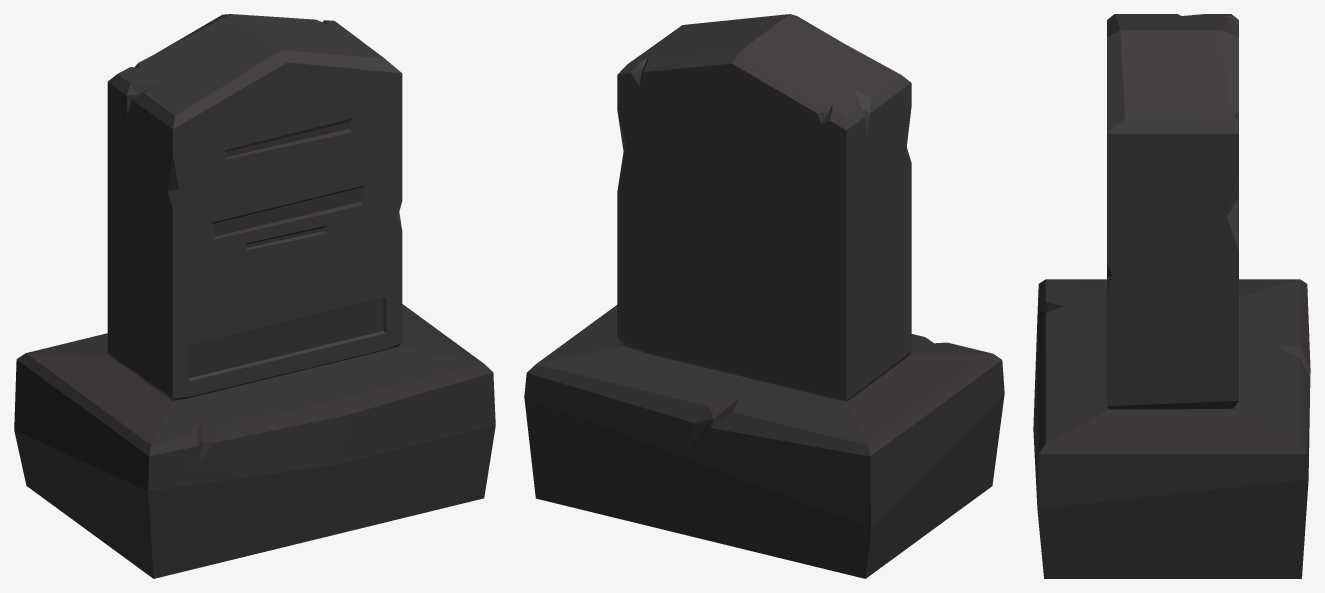
The model's file is TombThree.fbx.
3 renders of one model, left to right at view 1: azimuth 30°, elevation 25°; view 2: azimuth 150°, elevation 25°; view 3: azimuth 270°, elevation 25°, orthographic.
Visible parts, largest first — view 1: gravestone_old_small_a__2_; view 2: gravestone_old_small_a__2_; view 3: gravestone_old_small_a__2_.
Boxes of the visible parts, <box> form: gravestone_old_small_a__2_: <box>14,14,495,578</box>; gravestone_old_small_a__2_: <box>524,14,1004,578</box>; gravestone_old_small_a__2_: <box>1033,14,1310,578</box>.
Size of the model in its own units: 3030 by 3835 by 2064.
